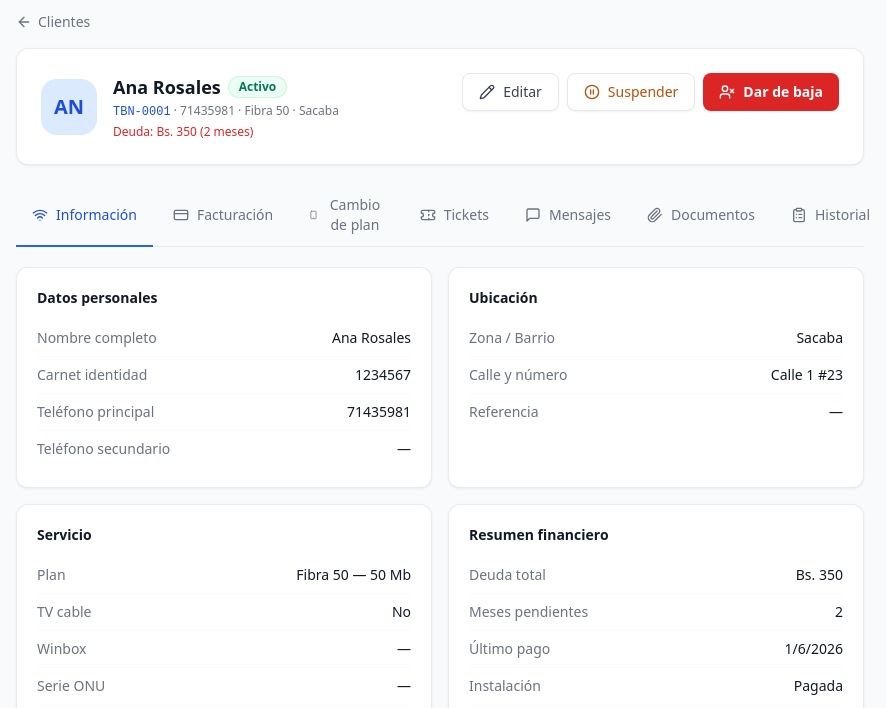
Test: ClientProfilePage — TC-FE-PROF-01 a TC-FE-PROF-09 (red de seguridad refactor B) › TC-FE-PROF-05 — pestaña Cambio de plan muestra el plan actual
Expected: the heading "Ana Rosales" is shown, [113,73,221,101]
Click the button "Cambio de plan" at (346, 216), box [293,185,400,247]
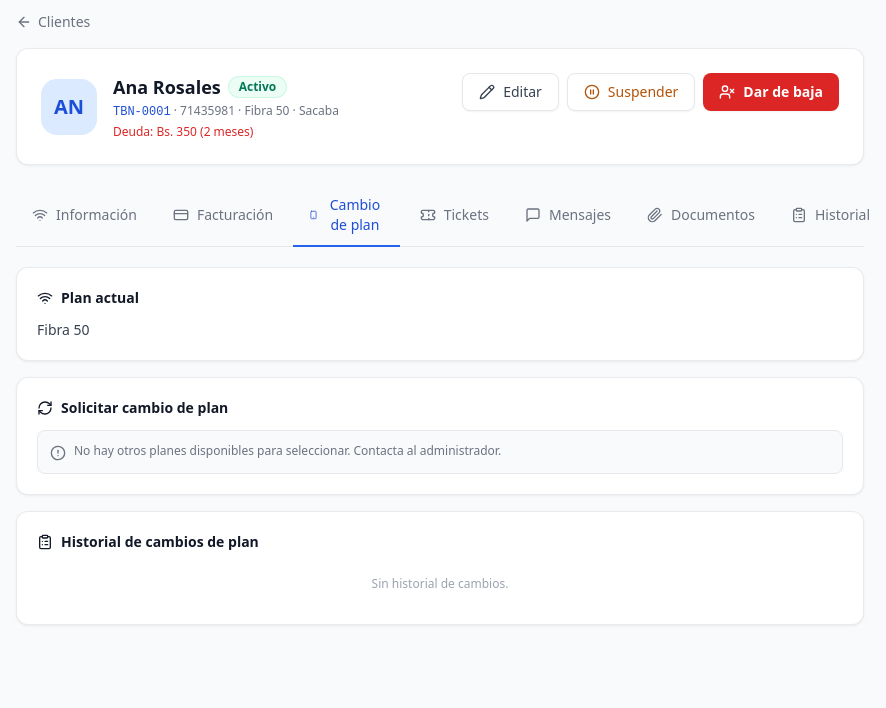
Expected: the text "Fibra 50" is shown, [37,320,90,339]
Result: the heading "Plan actual" is shown at [37,288,139,307]
